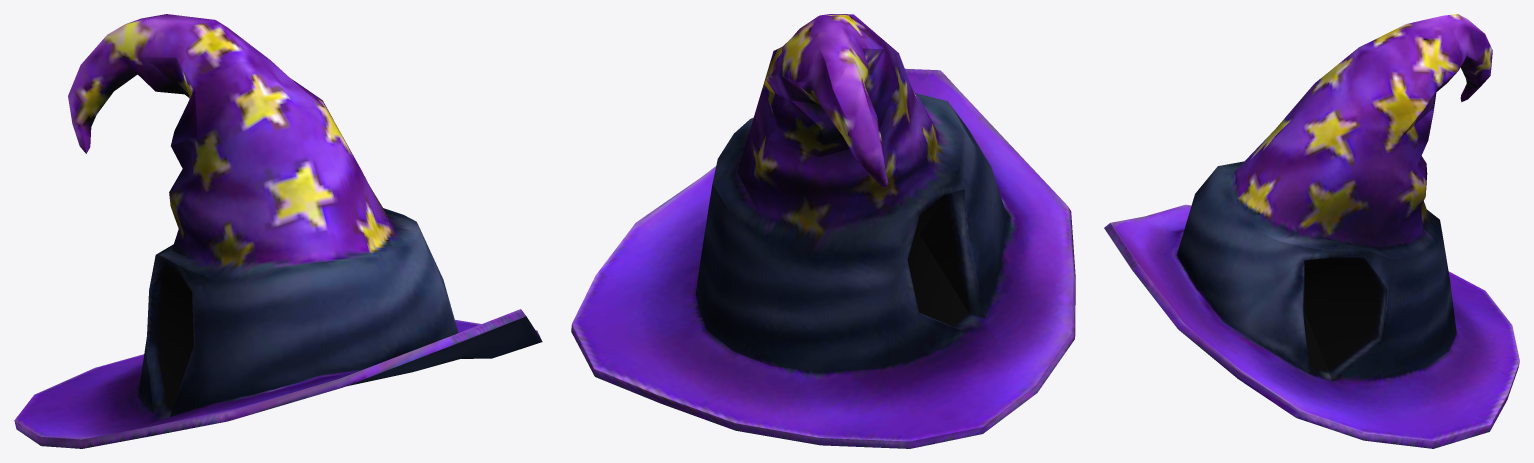
Rendered from hat_wizard.glb.
3 renders of one model, left to right at view 1: azimuth 30°, elevation 25°; view 2: azimuth 150°, elevation 25°; view 3: azimuth 270°, elevation 25°, orthographic. The views are drawn at different scales.
Parts seen in each view (by area): view 1: Object_2; view 2: Object_2; view 3: Object_2.
Boxes of the visible parts, x1,y1,x2,y2 form: Object_2: (14,14,542,448); Object_2: (571,14,1075,448); Object_2: (1104,14,1519,448).
Size of the model in its own units: 73.52 by 59.51 by 68.63.
1 material, 1 textured.
